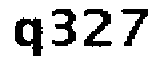2: (82, 5, 115, 50)
3: (47, 6, 80, 55)
7: (122, 3, 151, 49)
q: (12, 18, 48, 60)
